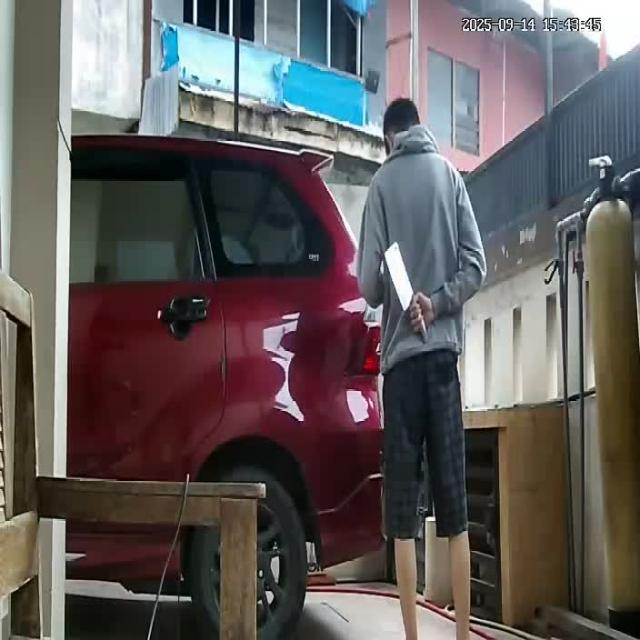senjata_tajam: (385, 239, 416, 313)
